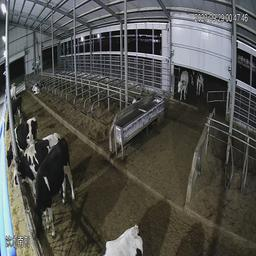cow: (27, 137, 78, 239), (3, 116, 42, 165), (101, 222, 150, 256), (14, 140, 36, 197), (174, 66, 190, 103), (5, 97, 27, 123), (190, 68, 206, 103), (30, 77, 46, 99)
